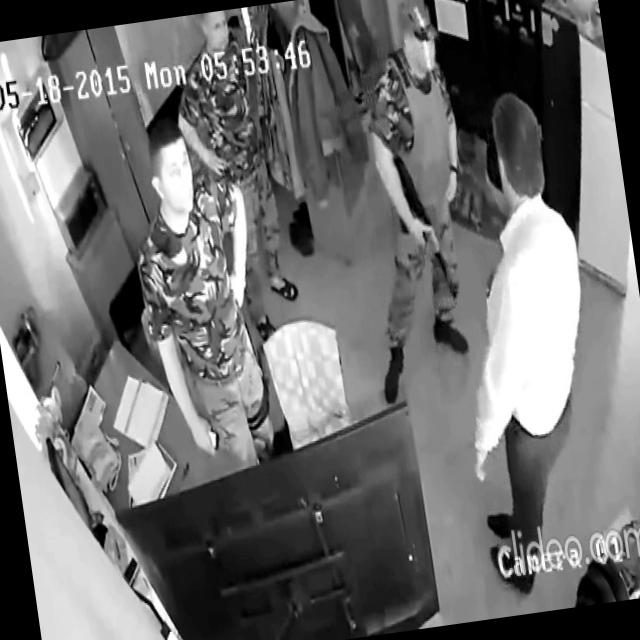gun: (385, 140, 462, 309)
person: (424, 85, 625, 600), (115, 101, 282, 479), (164, 6, 306, 350)
person with a gun: (330, 0, 493, 408)
